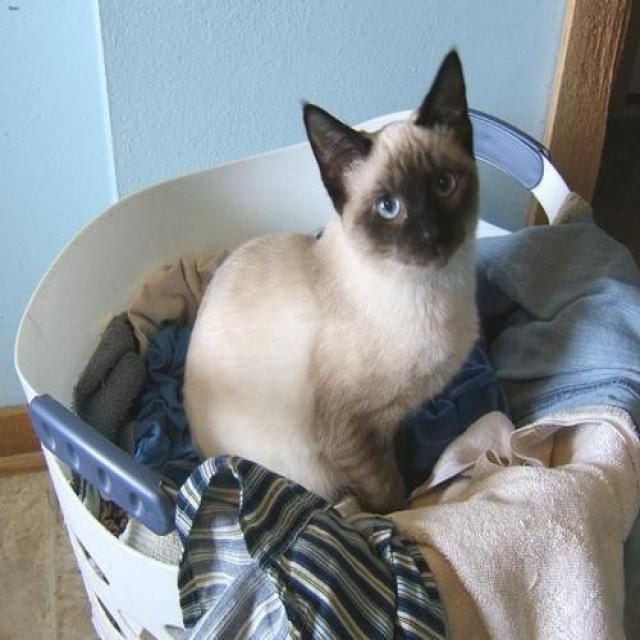cat: (186, 45, 482, 515)
